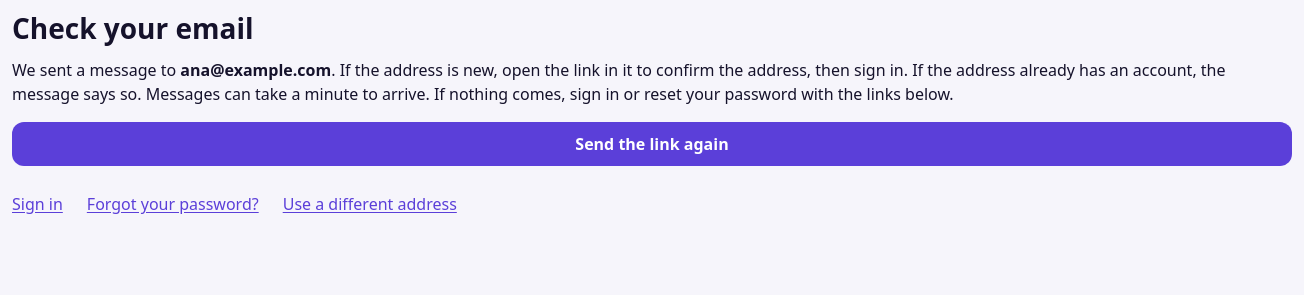
CheckEmail › names the address from this tab, never from the page address, and sends the link again
The image size is (1304, 295).
Check: the text "ana@example.com" is shown, box [180,59,331,81]
Check: the text "We sent a message to" shows "If the address is new, open the link in it to confirm the address, then sign in. If the address already has an account, the message says so.", box [12,59,1226,105]
Click the button "Send the link again" at (652, 144), box [12,122,1292,166]
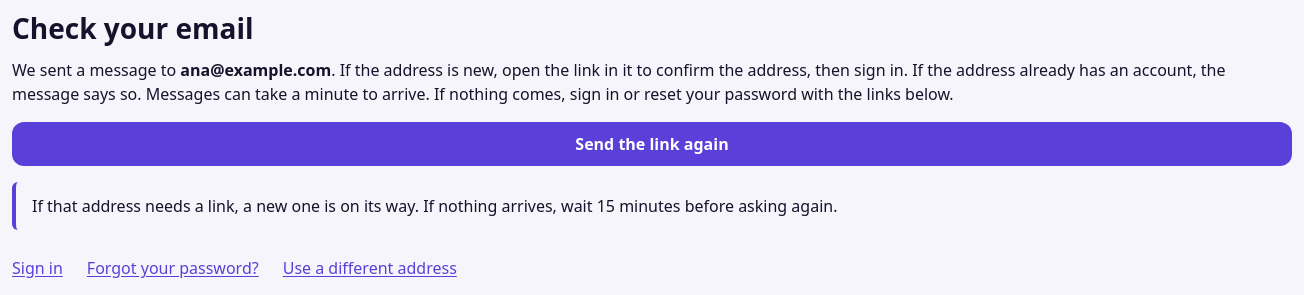
Check: the text "If that address needs a link" is shown, box [32,195,838,217]
